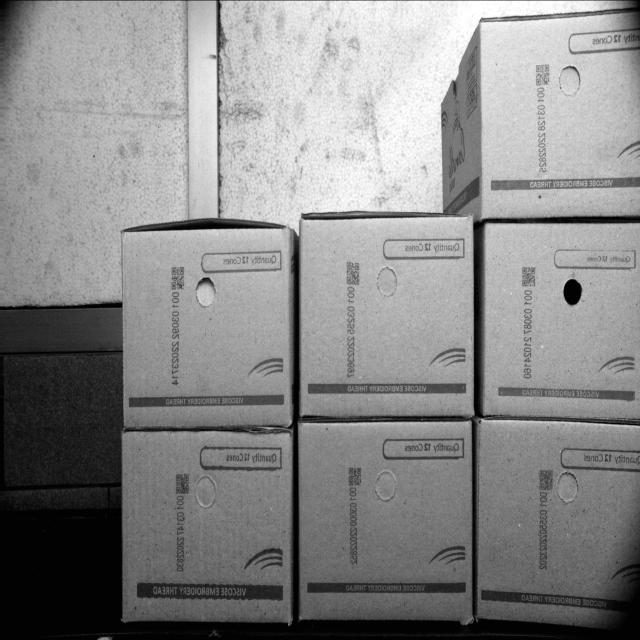cardboxes: (301, 214, 470, 419), (299, 426, 468, 629), (124, 220, 286, 425), (478, 417, 635, 626), (122, 432, 290, 626), (487, 8, 639, 214), (483, 223, 638, 419)
